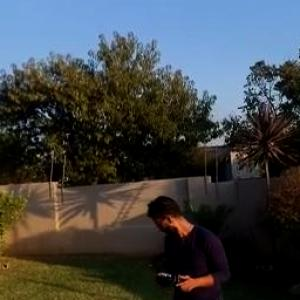follow: (144, 191, 237, 299)
